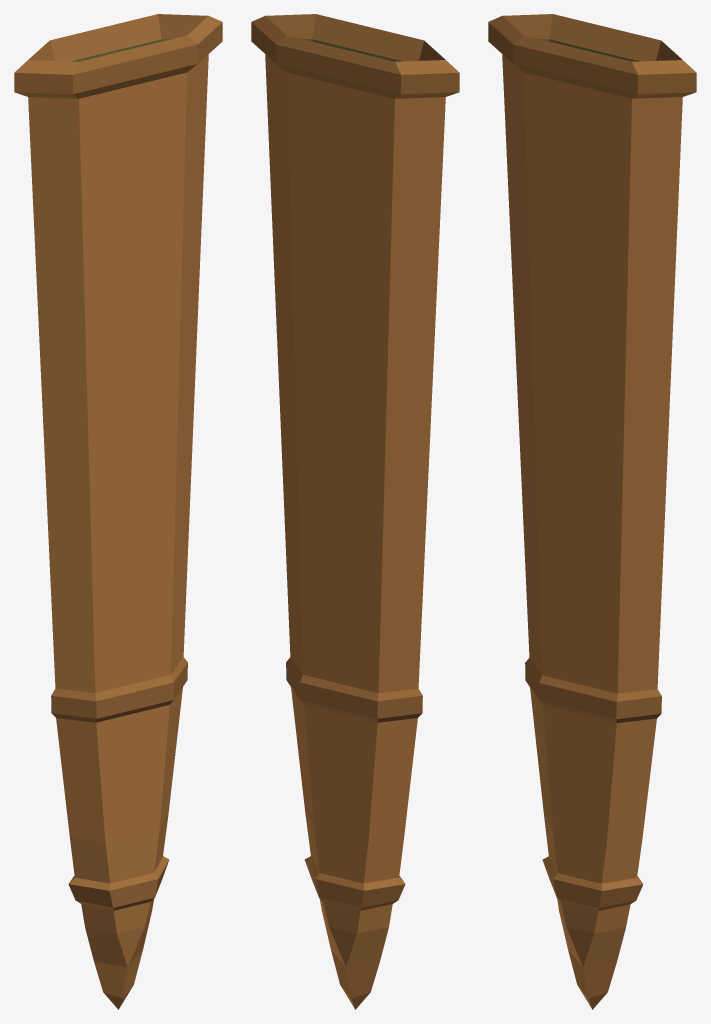
The model's file is SM_pwe_egypt_sword_scabbard_01.fbx.
The picture shows the model from 3 angles, left to right: view 1: azimuth 30°, elevation 25°; view 2: azimuth 150°, elevation 25°; view 3: azimuth 330°, elevation 25°; orthographic projection.
Visible parts, largest first — view 1: SM_pwe_egypt_sword_scabbard_01; view 2: SM_pwe_egypt_sword_scabbard_01; view 3: SM_pwe_egypt_sword_scabbard_01.
Boxes of the visible parts, x1,y1,x2,y2 form: SM_pwe_egypt_sword_scabbard_01: (14,14,222,1009); SM_pwe_egypt_sword_scabbard_01: (251,14,459,1009); SM_pwe_egypt_sword_scabbard_01: (488,14,696,1009).
Size of the model in its own units: 11.06 by 49.24 by 3.09.
